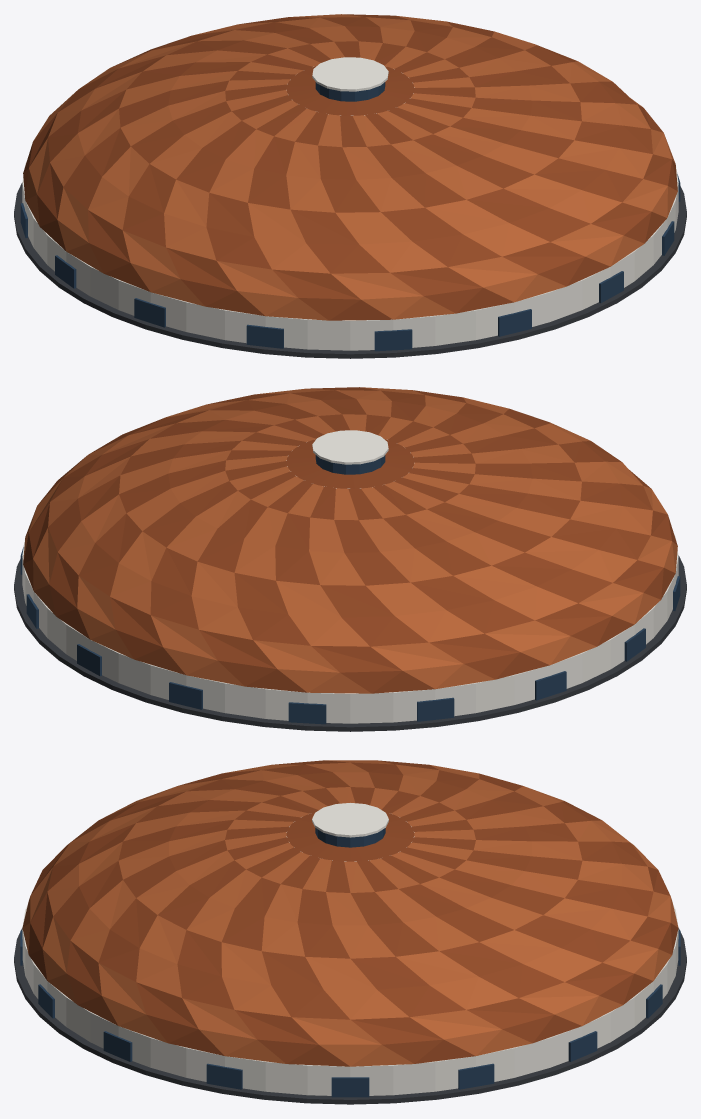
Rendered from palacio-deportes.glb.
The picture shows the model from 3 angles, top to bottom: view 1: azimuth 30°, elevation 25°; view 2: azimuth 150°, elevation 25°; view 3: azimuth 270°, elevation 25°; orthographic projection.
Parts seen in each view (by area): view 1: palacio-deportes; view 2: palacio-deportes; view 3: palacio-deportes.
Boxes of the visible parts, x1,y1,x2,y2 form: palacio-deportes: (14,14,686,358); palacio-deportes: (14,387,686,731); palacio-deportes: (14,760,686,1104).
Size of the model in its own units: 160 by 37.6 by 160.
